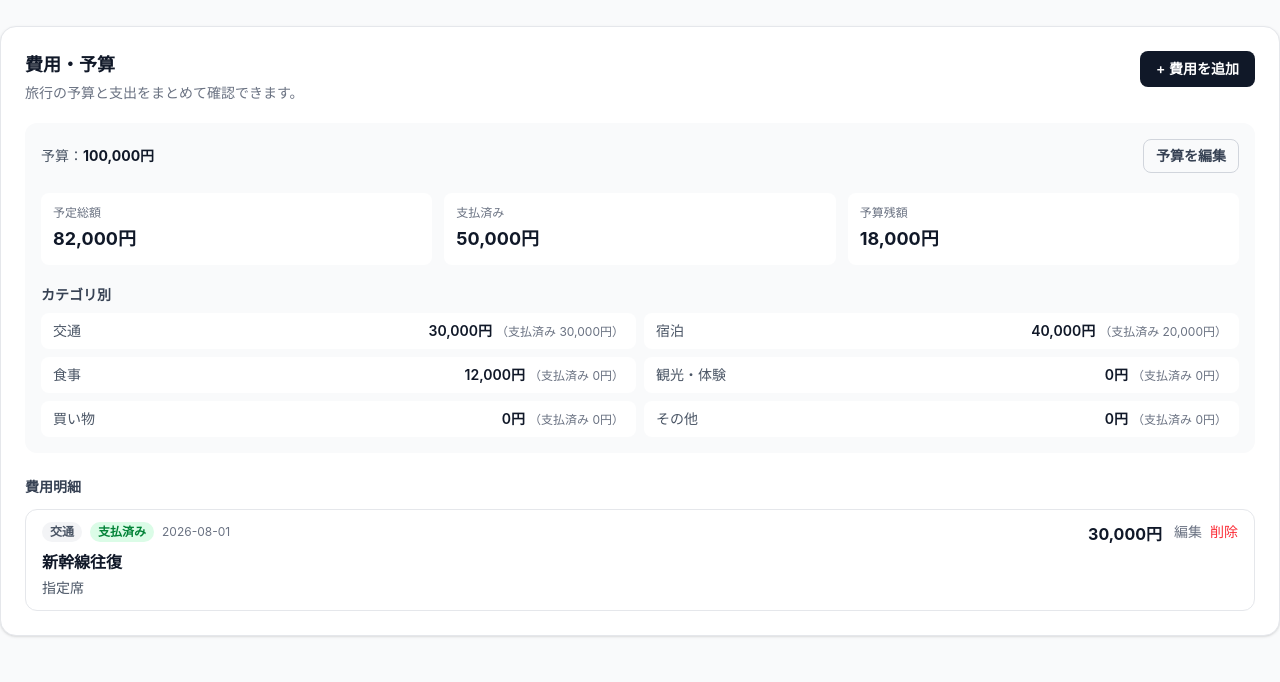
Test: ExpenseList › 費用を追加すると再取得して集計と明細を更新する
Check: the heading "新幹線往復" is shown, box [42, 552, 122, 572]
Click the button "+ 費用を追加": point(1198, 69) [1140, 51, 1255, 87]
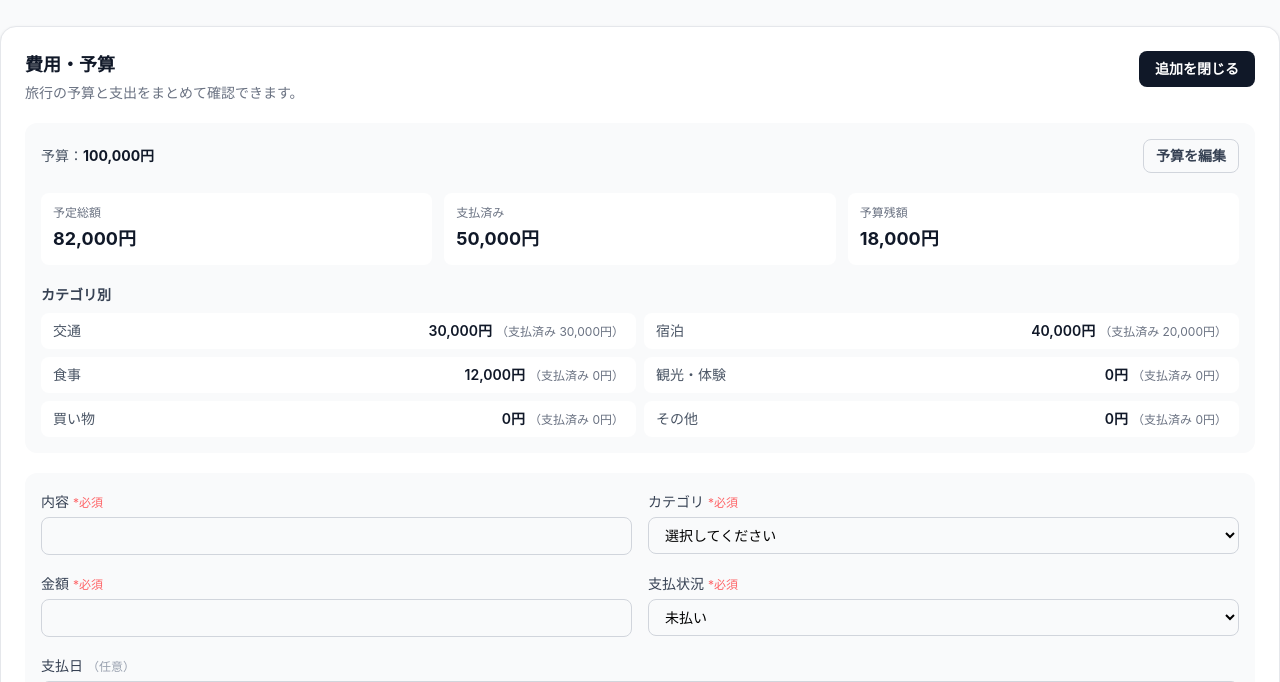
In the field labelled "内容*必須": point(336, 536) [41, 517, 632, 555], type "ホテル代"
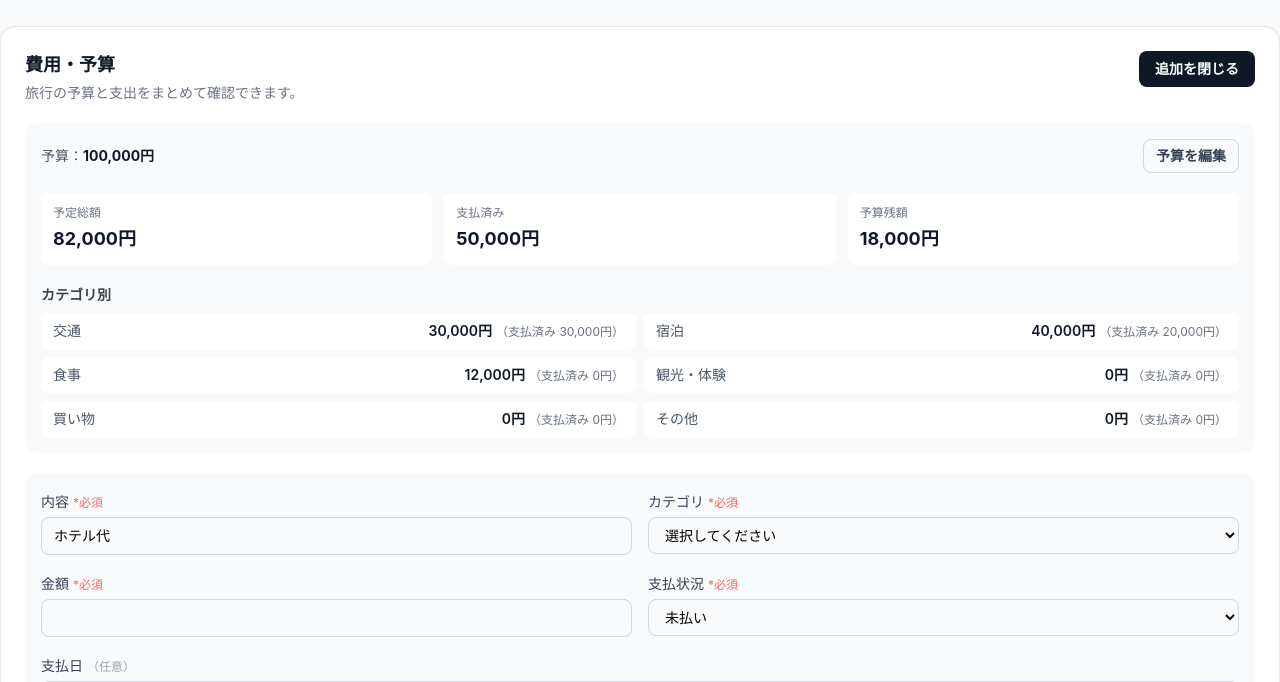
Select "宿泊" in the dropdown labelled "カテゴリ*必須": point(944, 536) [648, 517, 1239, 554]
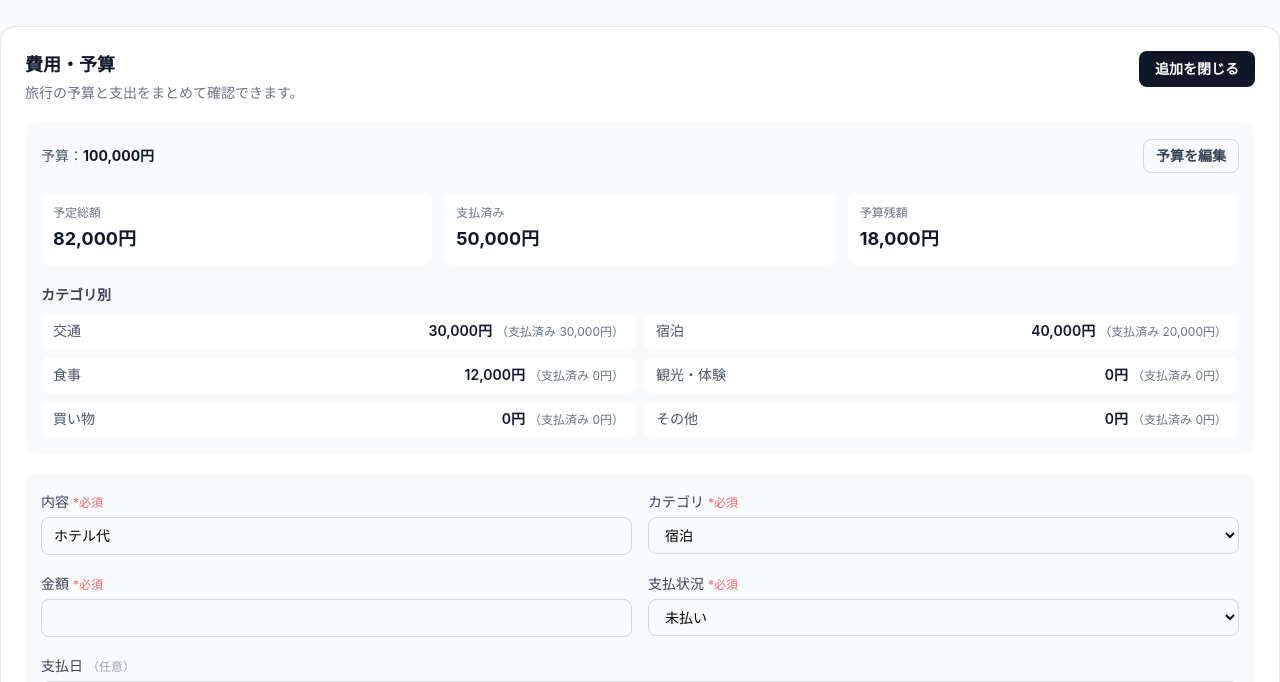
In the field labelled "金額*必須": point(336, 618) [41, 599, 632, 637], type "3000"
(page scrolled)
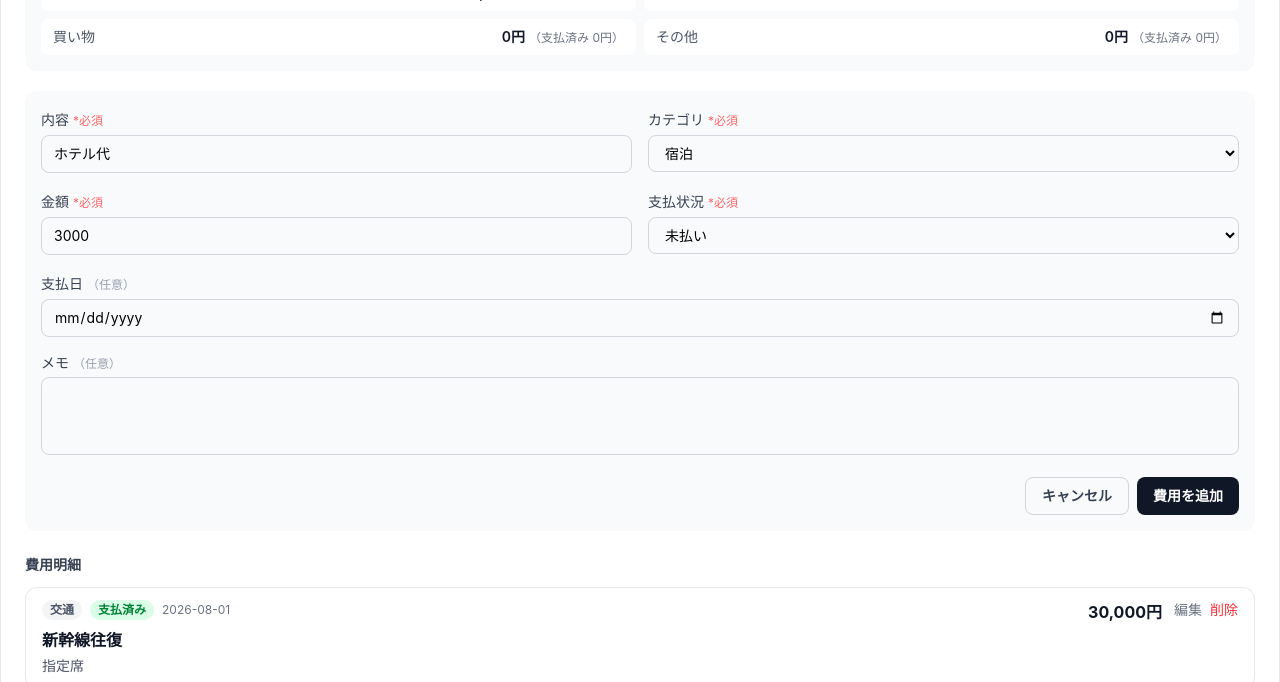
Click the button "費用を追加": point(1188, 496) [1137, 477, 1239, 515]
(page scrolled)
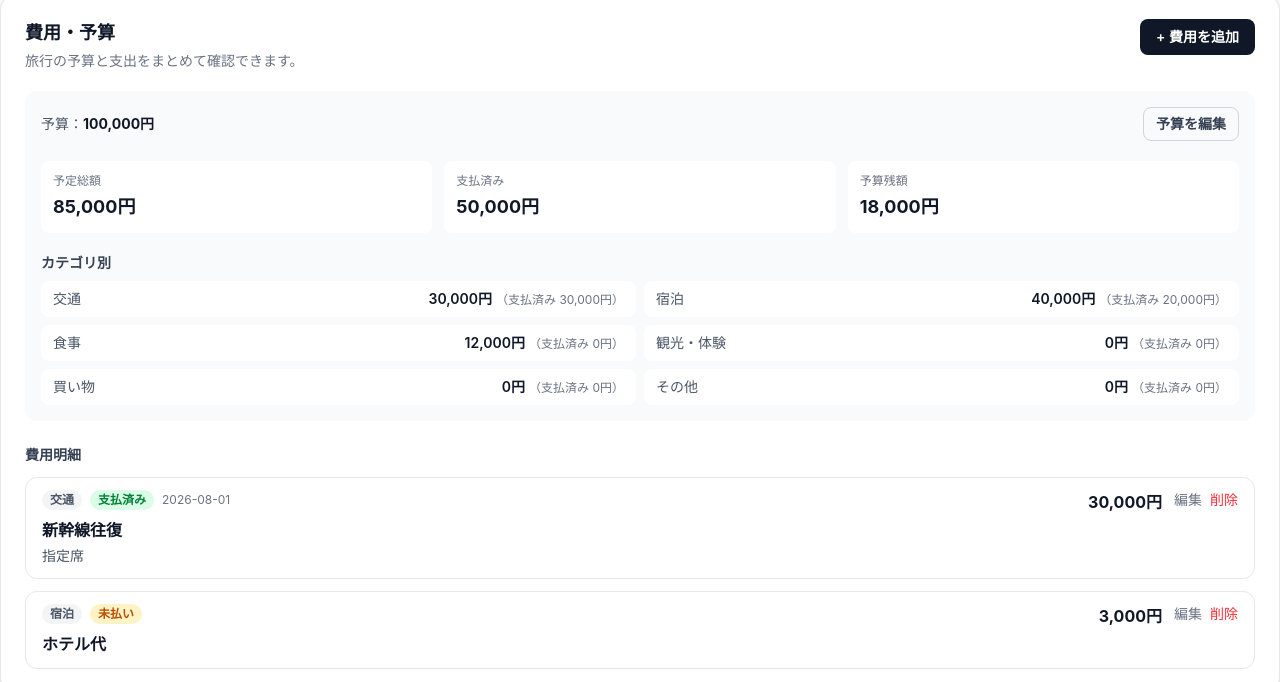
Check: the heading "ホテル代" is shown, box [42, 634, 106, 654]
Check: the text "85,000円" is shown, box [53, 196, 135, 217]
